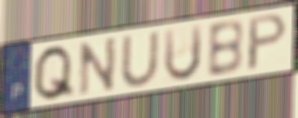B: (205, 17, 246, 80)
N: (77, 35, 119, 98)
P: (245, 12, 290, 75)
Q: (31, 43, 77, 103)
U: (162, 21, 204, 84), (119, 29, 161, 89)
